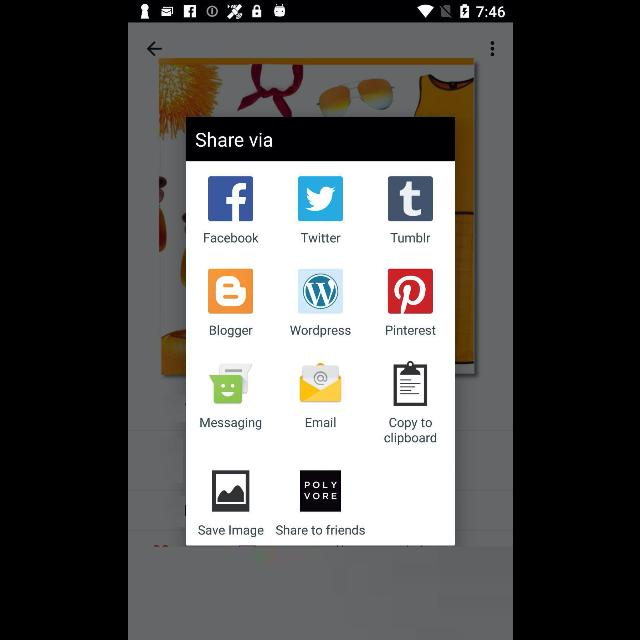icon: (298, 176, 342, 222), (208, 177, 252, 221), (393, 362, 427, 406), (146, 42, 162, 56), (490, 41, 494, 57)
image: (388, 268, 432, 314), (208, 269, 252, 313), (298, 269, 342, 313), (388, 177, 432, 221), (210, 363, 252, 403), (300, 471, 340, 512), (211, 470, 249, 512), (299, 363, 341, 401)
panel: (185, 117, 455, 545)
text: (384, 418, 436, 446), (194, 132, 272, 148), (274, 525, 364, 535), (290, 324, 350, 338), (198, 525, 262, 537), (200, 418, 260, 430), (204, 232, 258, 244), (208, 324, 252, 338), (390, 233, 430, 243), (300, 233, 340, 243), (385, 326, 435, 334), (305, 417, 335, 427)
uppertaskbar: (128, 1, 512, 23)
